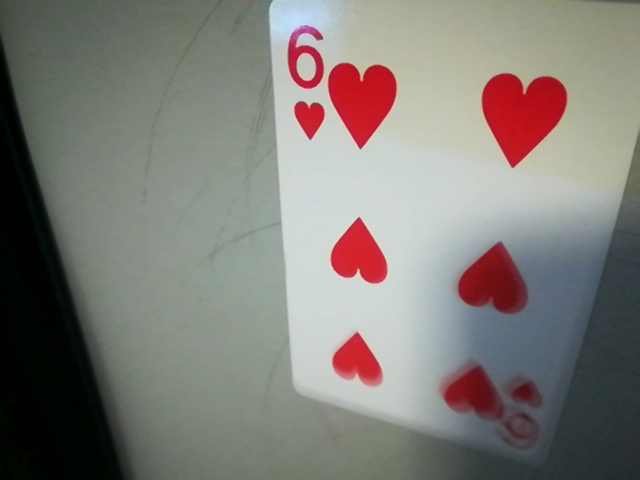hx 6: (274, 16, 331, 147)
